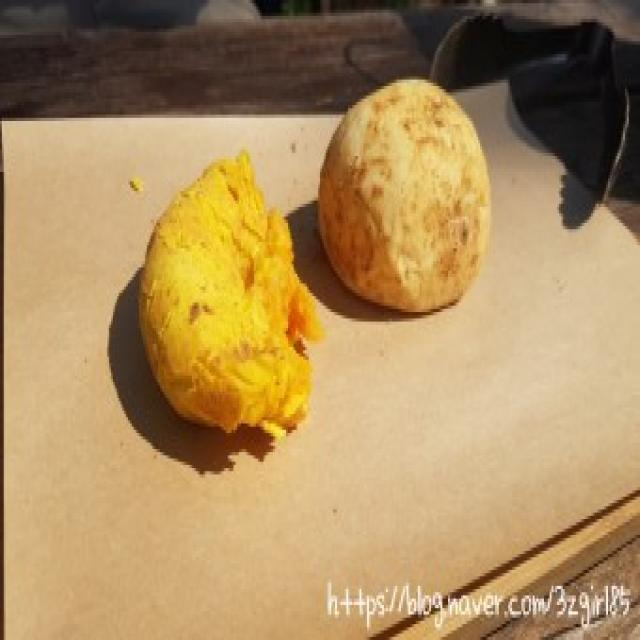potato: (139, 146, 324, 448), (314, 72, 493, 316)
